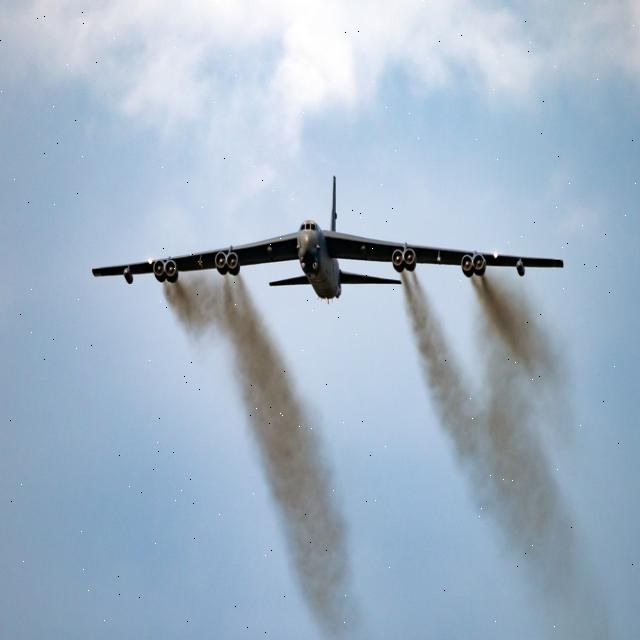B52: (74, 150, 580, 350)
